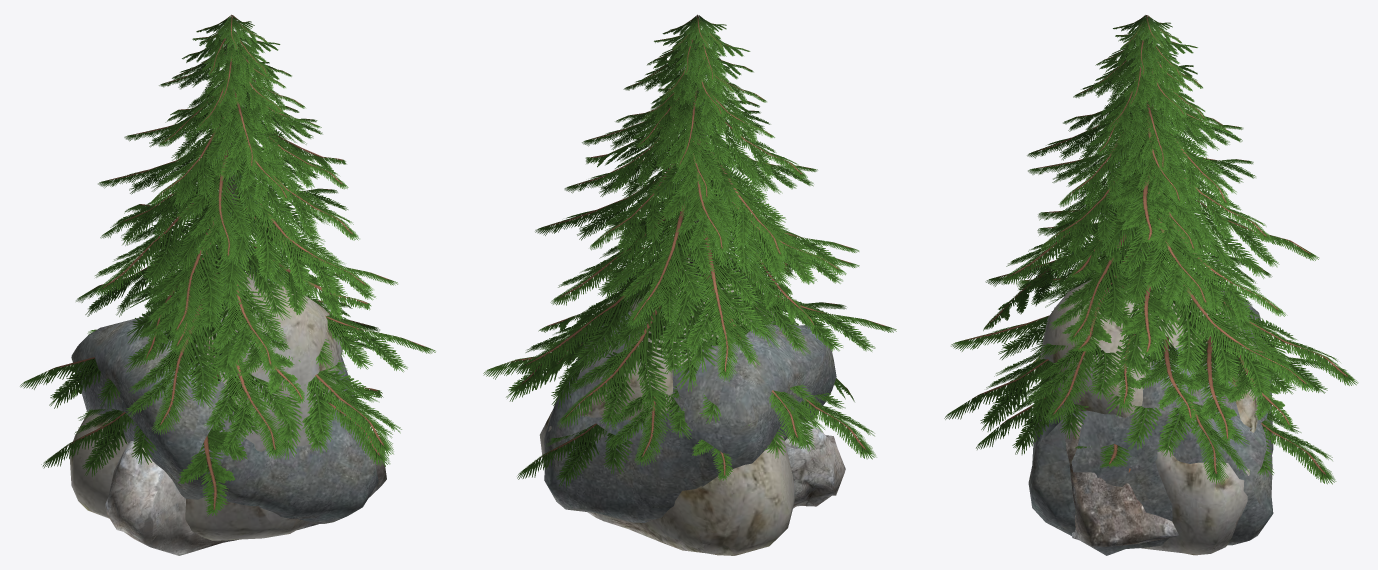
File: real_pack.glb
3 views of the same model, side by side, from view 1: azimuth 30°, elevation 25°; view 2: azimuth 150°, elevation 25°; view 3: azimuth 270°, elevation 25° (orthographic). The views are drawn at different scales.
Parts seen in each view (by area): view 1: Branches_M_TreeAtlas_0, rock33_lr_rock33_0, rock20_lr_rock20_0, rock46_lr_rock46_0; view 2: Branches_M_TreeAtlas_0, rock33_lr_rock33_0, rock20_lr_rock20_0, rock46_lr_rock46_0; view 3: Branches_M_TreeAtlas_0, rock33_lr_rock33_0, rock20_lr_rock20_0, rock46_lr_rock46_0.
Part boxes in pixels (x1=…): Branches_M_TreeAtlas_0: x1=20, y1=14, x2=435, y2=516; rock33_lr_rock33_0: x1=71, y1=314, x2=378, y2=523; rock20_lr_rock20_0: x1=69, y1=273, x2=342, y2=540; rock46_lr_rock46_0: x1=105, y1=399, x2=386, y2=555; Branches_M_TreeAtlas_0: x1=483, y1=14, x2=896, y2=487; rock33_lr_rock33_0: x1=544, y1=311, x2=836, y2=522; rock20_lr_rock20_0: x1=539, y1=257, x2=794, y2=555; rock46_lr_rock46_0: x1=785, y1=418, x2=845, y2=508; Branches_M_TreeAtlas_0: x1=944, y1=15, x2=1358, y2=485; rock33_lr_rock33_0: x1=1028, y1=291, x2=1273, y2=555; rock20_lr_rock20_0: x1=1040, y1=280, x2=1258, y2=555; rock46_lr_rock46_0: x1=1061, y1=413, x2=1178, y2=546.
Bounding box in the file's own units: 58.35 × 75 × 57.27.
20 materials, 20 textured.
